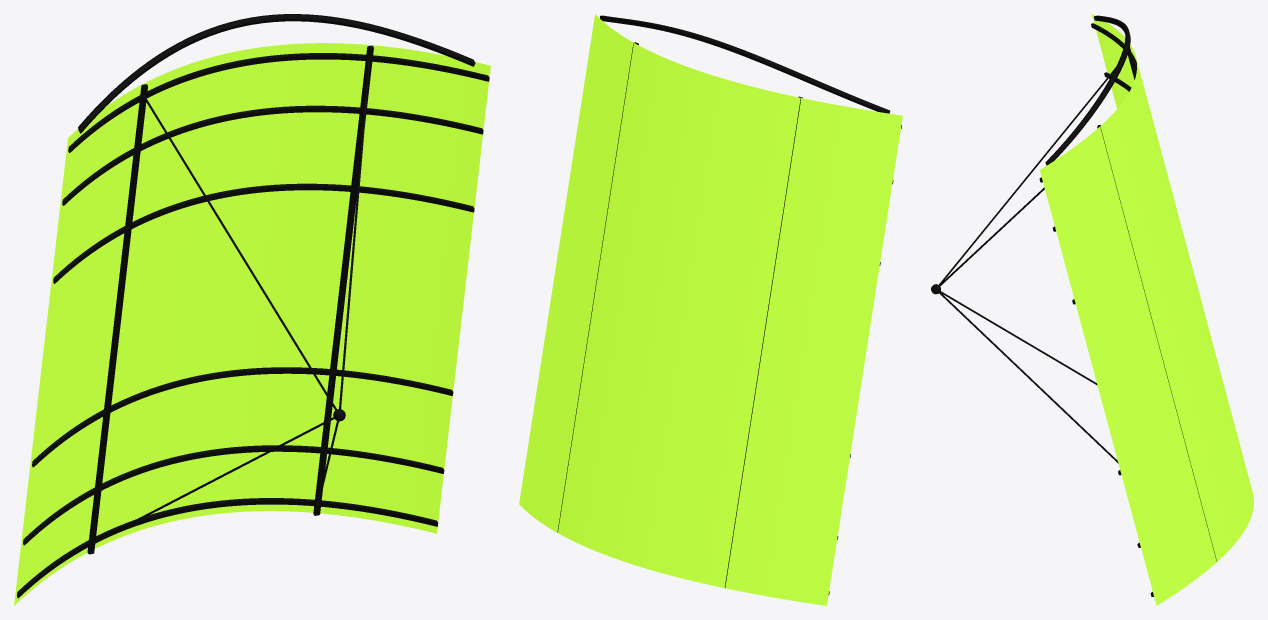
3 renders of one model, left to right at view 1: azimuth 30°, elevation 25°; view 2: azimuth 150°, elevation 25°; view 3: azimuth 270°, elevation 25°, orthographic. The views are drawn at different scales.
Visible parts, largest first — view 1: paper, ribs, unari, bridle; view 2: paper, unari, ribs; view 3: paper, bridle, unari, ribs.
Boxes of the visible parts, x1,y1,x2,y2 form: paper: (14, 43, 490, 605); ribs: (17, 45, 489, 598); unari: (78, 14, 475, 133); bridle: (93, 59, 370, 543); paper: (519, 14, 902, 605); unari: (600, 15, 890, 113); ribs: (557, 42, 901, 594); paper: (1040, 14, 1253, 605); bridle: (931, 67, 1118, 463); unari: (1045, 15, 1130, 165); ribs: (1039, 23, 1216, 596).
Bounding box in the file's own units: 1.61 × 2.19 × 1.35.
